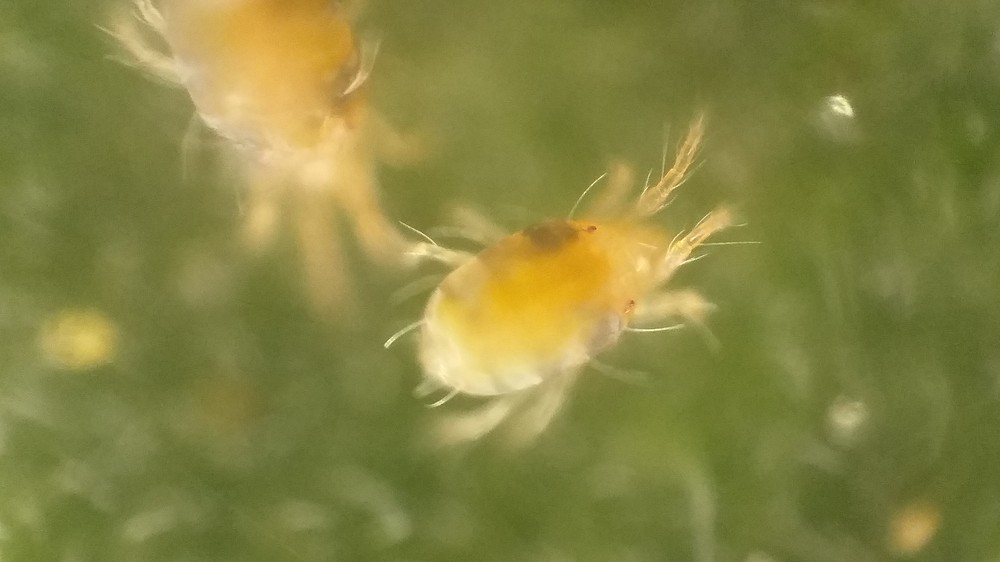Aracnido Rojo: (389, 125, 751, 437), (107, 1, 439, 299)
